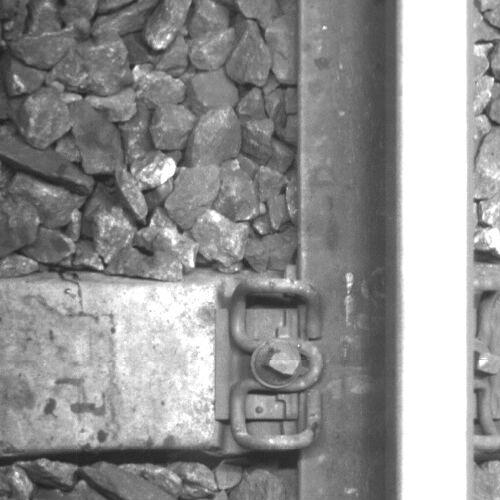rail: (395, 1, 473, 500)
tie_concr: (1, 281, 299, 451)
vossloh: (216, 276, 321, 450)
